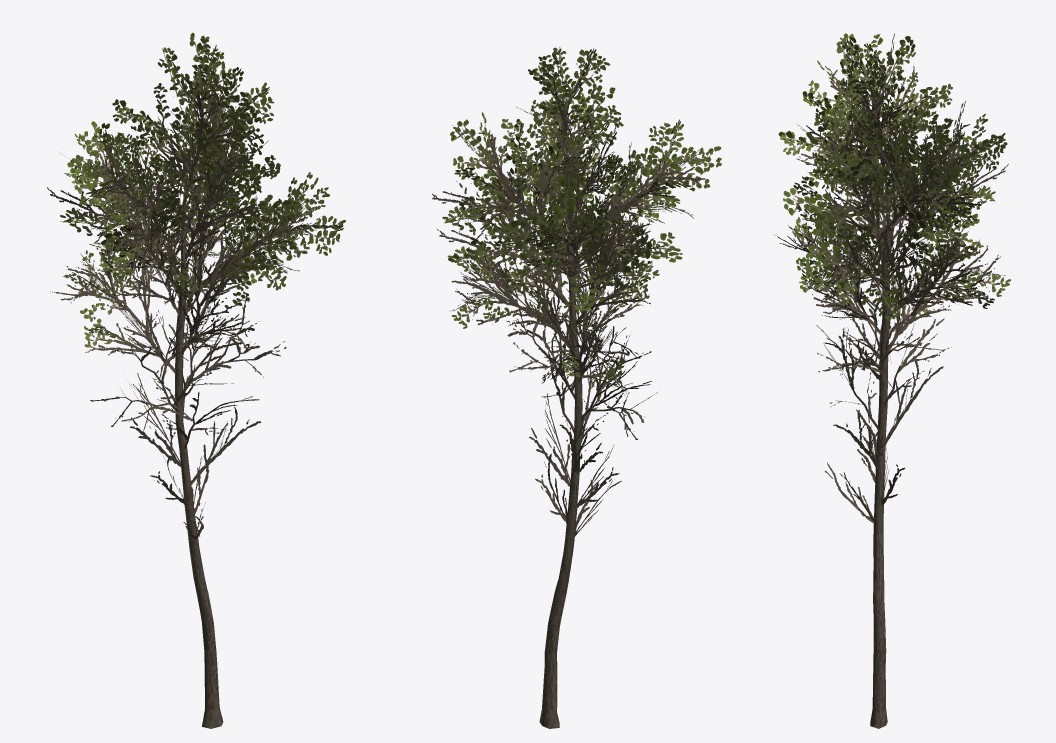
The model's file is SM_BlackAlder_Forest_06_PP_LOD5.gltf.
3 views of the same model, side by side, from view 1: azimuth 30°, elevation 25°; view 2: azimuth 150°, elevation 25°; view 3: azimuth 270°, elevation 25° (orthographic).
Visible parts, largest first — view 1: SM_BlackAlder_Forest_06_PP; view 2: SM_BlackAlder_Forest_06_PP; view 3: SM_BlackAlder_Forest_06_PP.
Part boxes in pixels (x1,y1,x2,y2): SM_BlackAlder_Forest_06_PP: (47, 32, 345, 728); SM_BlackAlder_Forest_06_PP: (432, 47, 721, 728); SM_BlackAlder_Forest_06_PP: (773, 33, 1010, 728).
Bounding box in the file's own units: 4.06 × 9.21 × 3.31.
2 materials, 2 textured.
